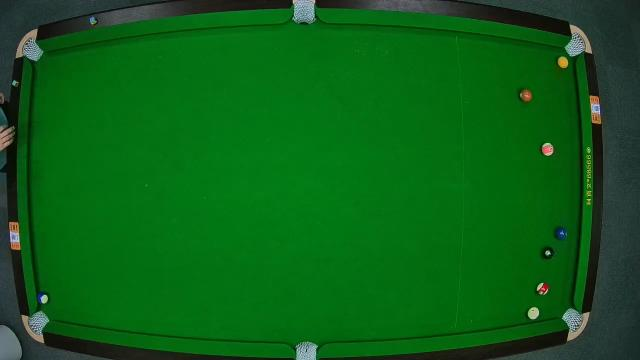bag1: (19, 38, 45, 62)
bag2: (291, 0, 317, 26)
bag3: (566, 29, 588, 57)
bag4: (29, 310, 49, 334)
bag5: (294, 340, 320, 360)
bag6: (563, 308, 585, 332)
ball0: (526, 304, 540, 320)
ball1: (556, 55, 570, 69)
ball10: (36, 292, 50, 306)
ball11: (536, 280, 548, 296)
ball12: (540, 142, 556, 156)
ball2: (554, 226, 570, 242)
ball7: (519, 87, 531, 101)
ball8: (540, 244, 554, 260)
